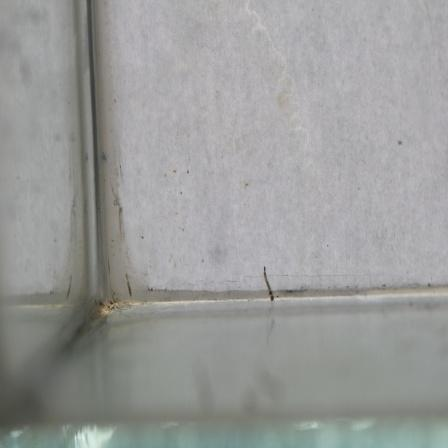Jentik-Nyamuk: (259, 263, 279, 306)
